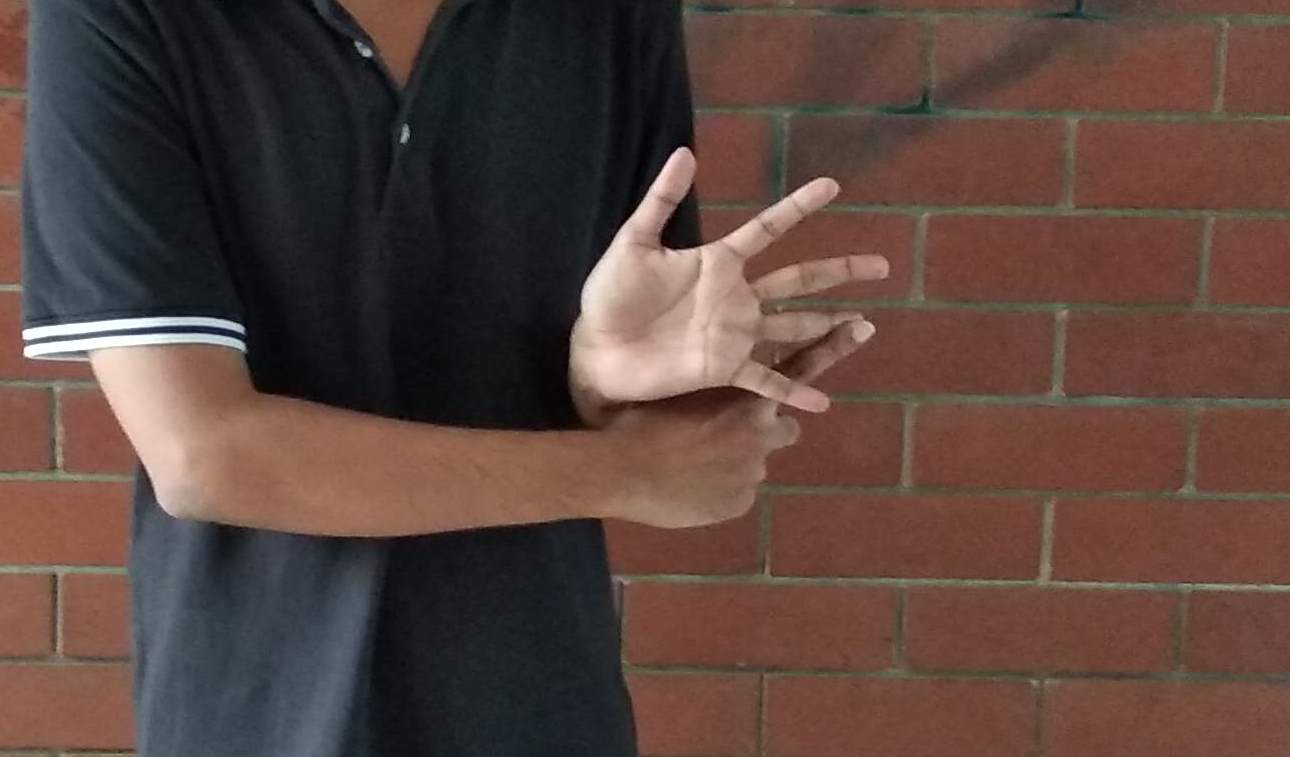e: (623, 176, 917, 501)
